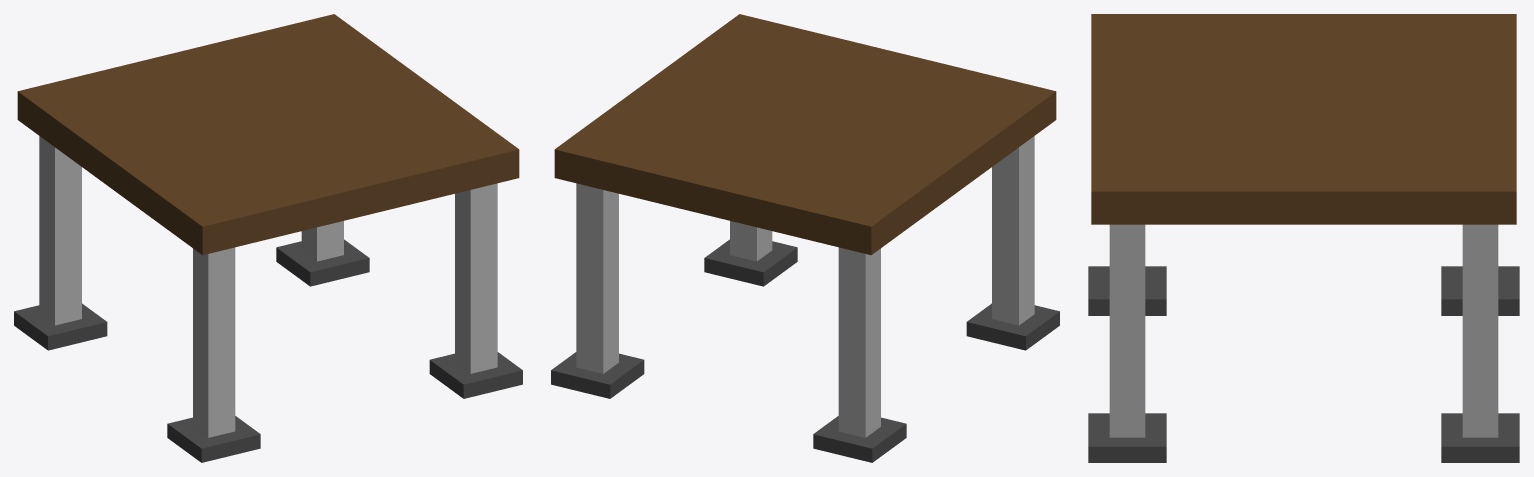
File: Table.fbx
The picture shows the model from 3 angles, left to right: view 1: azimuth 30°, elevation 25°; view 2: azimuth 150°, elevation 25°; view 3: azimuth 270°, elevation 25°; orthographic projection. The views are drawn at different scales.
Parts seen in each view (by area): view 1: Cube.007; view 2: Cube.007; view 3: Cube.007.
Part boxes in pixels (<box>): Cube.007: <box>14,14,522,462</box>; Cube.007: <box>551,14,1059,462</box>; Cube.007: <box>1088,14,1519,462</box>.
Size of the model in its own units: 2353 by 1642 by 2379.
